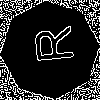R: (25, 25, 74, 66)
